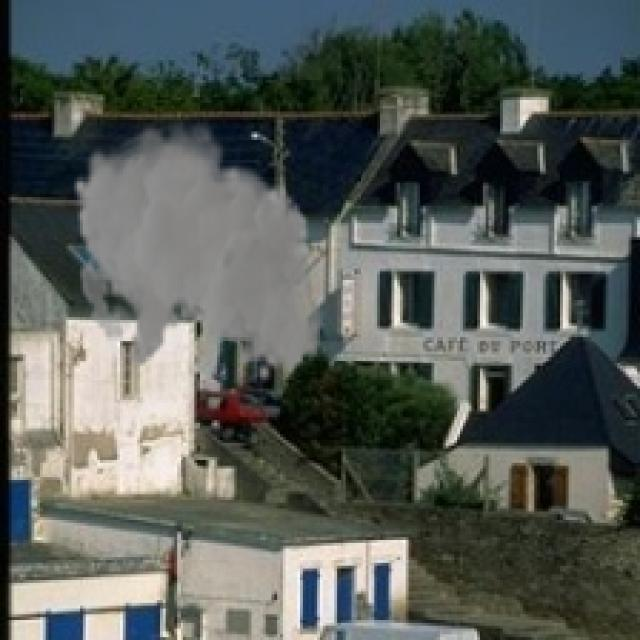smoke: (71, 111, 323, 383)
